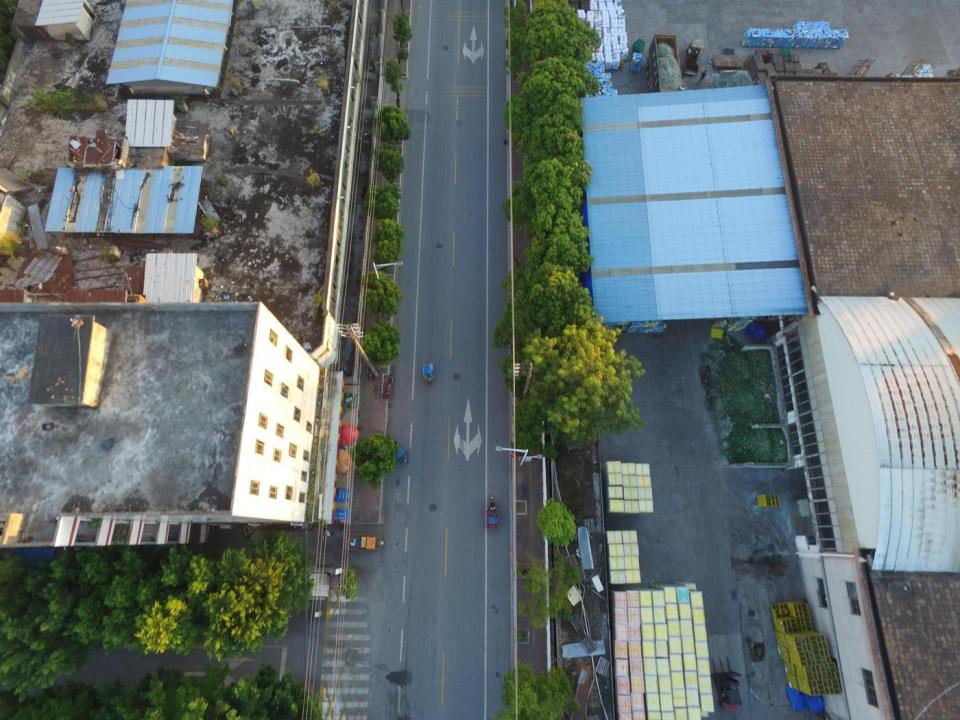truck: (645, 34, 686, 121)
